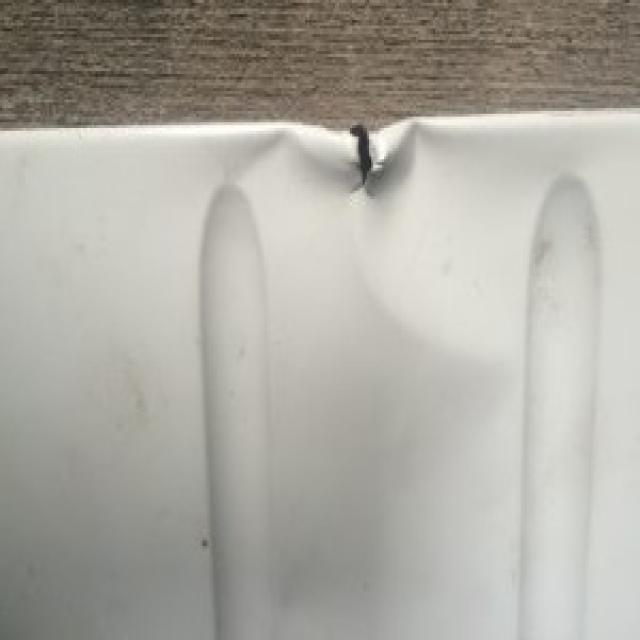crack: (337, 125, 390, 205)
